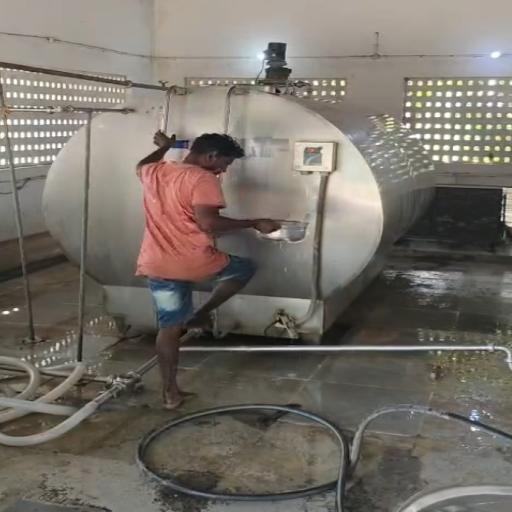silo: (40, 83, 438, 339)
vessel: (256, 219, 312, 244)
